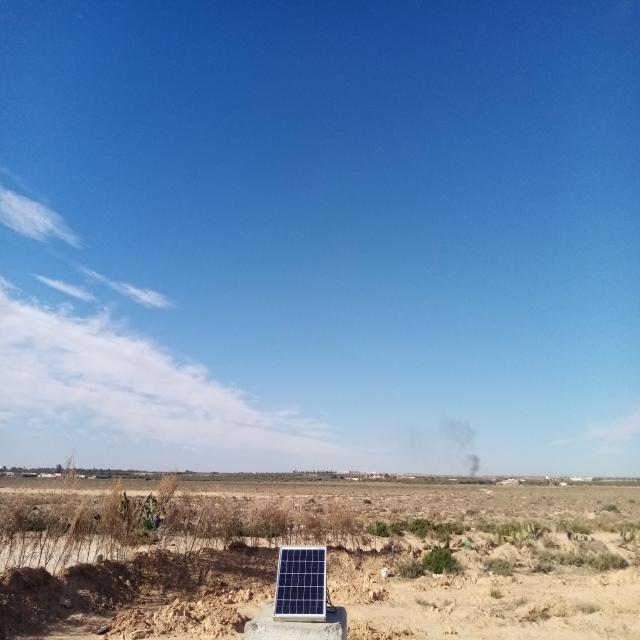Normal Solar Panel: (274, 546, 327, 617)
